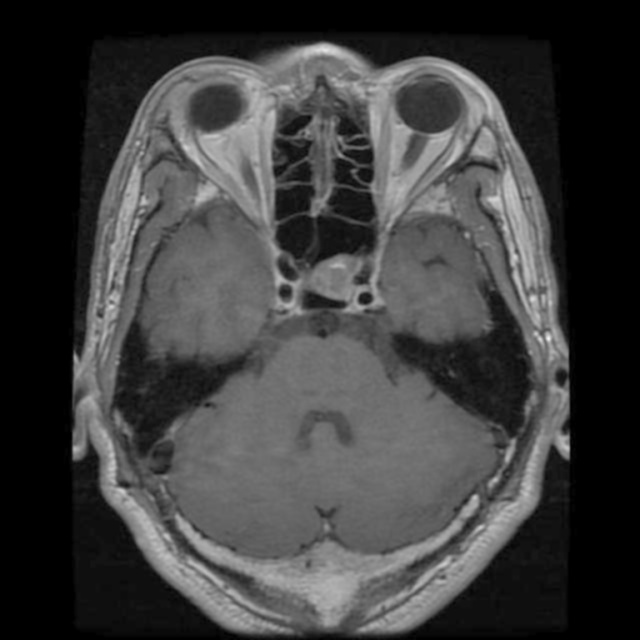no tumor: (298, 252, 362, 308)
